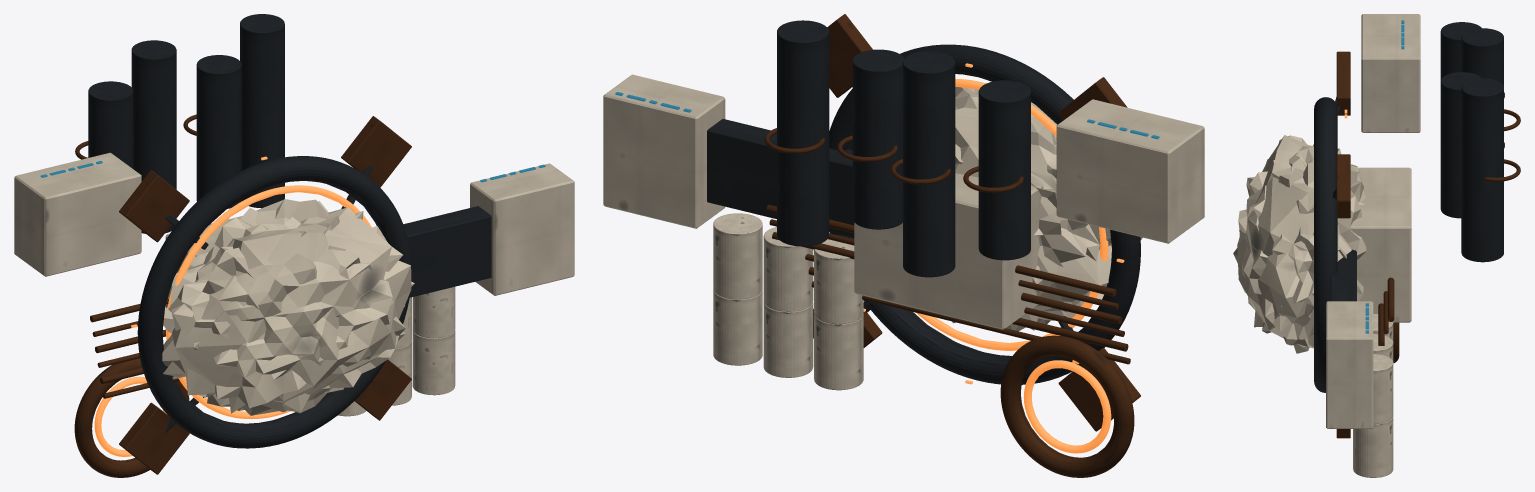
File: place_claim_outpost_refinery.glb
3 renders of one model, left to right at view 1: azimuth 30°, elevation 25°; view 2: azimuth 150°, elevation 25°; view 3: azimuth 270°, elevation 25°, orthographic. The views are drawn at different scales.
Parts seen in each view (by area): view 1: LOD0_Station_Material_Hull, LOD0_Station_Material_Mechanical, LOD1_Station_Material_Hull, LOD2_Station_Material_Hull, LOD0_Station_Material_Warm, LOD1_Station_Material_Mechanical, LOD2_Station_Material_Mechanical, LOD2_Station_Material_Warm, LOD1_Station_Material_Warm, LOD0_Station_Material_Accent, LOD2_Station_Material_Accent, LOD1_Station_Material_Accent; view 2: LOD0_Station_Material_Mechanical, LOD0_Station_Material_Hull, LOD1_Station_Material_Hull, LOD2_Station_Material_Hull, LOD0_Station_Material_Warm, LOD1_Station_Material_Mechanical, LOD1_Station_Material_Warm, LOD2_Station_Material_Mechanical, LOD0_Station_Material_Accent, LOD2_Station_Material_Warm, LOD2_Station_Material_Accent, LOD1_Station_Material_Accent; view 3: LOD0_Station_Material_Hull, LOD0_Station_Material_Mechanical, LOD1_Station_Material_Hull, LOD2_Station_Material_Hull, LOD1_Station_Material_Mechanical, LOD0_Station_Material_Warm, LOD2_Station_Material_Warm, LOD1_Station_Material_Warm, LOD2_Station_Material_Mechanical.
Part boxes in pixels (box(x1,y1,x2,y2)): LOD0_Station_Material_Hull: box(15, 157, 572, 416); LOD0_Station_Material_Mechanical: box(88, 14, 491, 448); LOD1_Station_Material_Hull: box(14, 153, 573, 416); LOD2_Station_Material_Hull: box(14, 152, 574, 412); LOD0_Station_Material_Warm: box(74, 114, 409, 477); LOD1_Station_Material_Mechanical: box(88, 40, 491, 448); LOD2_Station_Material_Mechanical: box(89, 41, 491, 440); LOD2_Station_Material_Warm: box(77, 116, 411, 474); LOD1_Station_Material_Warm: box(75, 115, 411, 476); LOD0_Station_Material_Accent: box(94, 156, 372, 456); LOD2_Station_Material_Accent: box(99, 190, 363, 454); LOD1_Station_Material_Accent: box(97, 156, 367, 456); LOD0_Station_Material_Mechanical: box(707, 20, 1140, 384); LOD0_Station_Material_Hull: box(606, 75, 1196, 389); LOD1_Station_Material_Hull: box(605, 75, 1203, 390); LOD2_Station_Material_Hull: box(603, 74, 1204, 329); LOD0_Station_Material_Warm: box(764, 23, 1139, 477); LOD1_Station_Material_Mechanical: box(707, 45, 1140, 382); LOD1_Station_Material_Warm: box(806, 14, 1139, 476); LOD2_Station_Material_Mechanical: box(707, 52, 1126, 375); LOD0_Station_Material_Accent: box(863, 63, 1124, 453); LOD2_Station_Material_Warm: box(813, 14, 1140, 471); LOD2_Station_Material_Accent: box(920, 84, 1104, 450); LOD1_Station_Material_Accent: box(921, 63, 1123, 453); LOD0_Station_Material_Hull: box(1233, 14, 1417, 477); LOD0_Station_Material_Mechanical: box(1314, 22, 1503, 392); LOD1_Station_Material_Hull: box(1237, 14, 1419, 477); LOD2_Station_Material_Hull: box(1245, 14, 1420, 428); LOD1_Station_Material_Mechanical: box(1316, 22, 1503, 391); LOD0_Station_Material_Warm: box(1338, 53, 1520, 363); LOD2_Station_Material_Warm: box(1336, 51, 1517, 438); LOD1_Station_Material_Warm: box(1337, 52, 1519, 438); LOD2_Station_Material_Mechanical: box(1317, 22, 1502, 333).
Size of what is drawn, in the model's own units: 94.5 by 65.9 by 48.6.
Materials: 5 (5 with a texture image).
